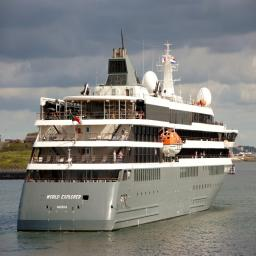cruises: (16, 29, 239, 236)
